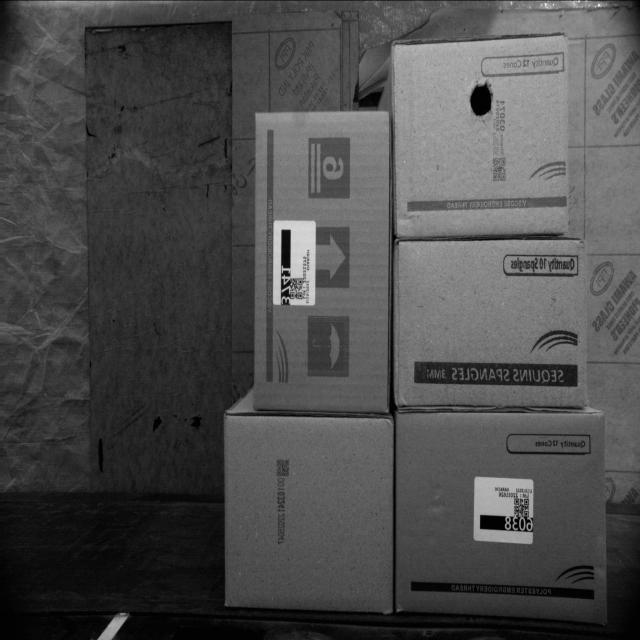cardboxes: (395, 412, 606, 621), (253, 108, 389, 408), (392, 36, 566, 235), (394, 242, 584, 404), (228, 420, 388, 609)
